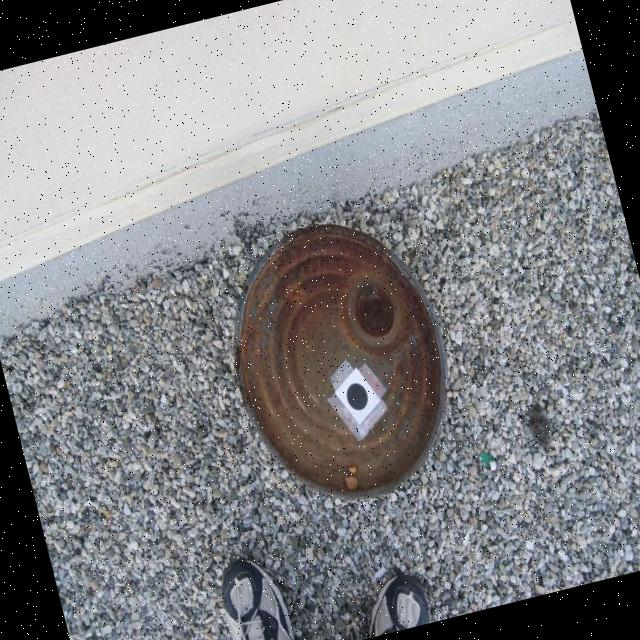Corrosion: (205, 199, 472, 520)
